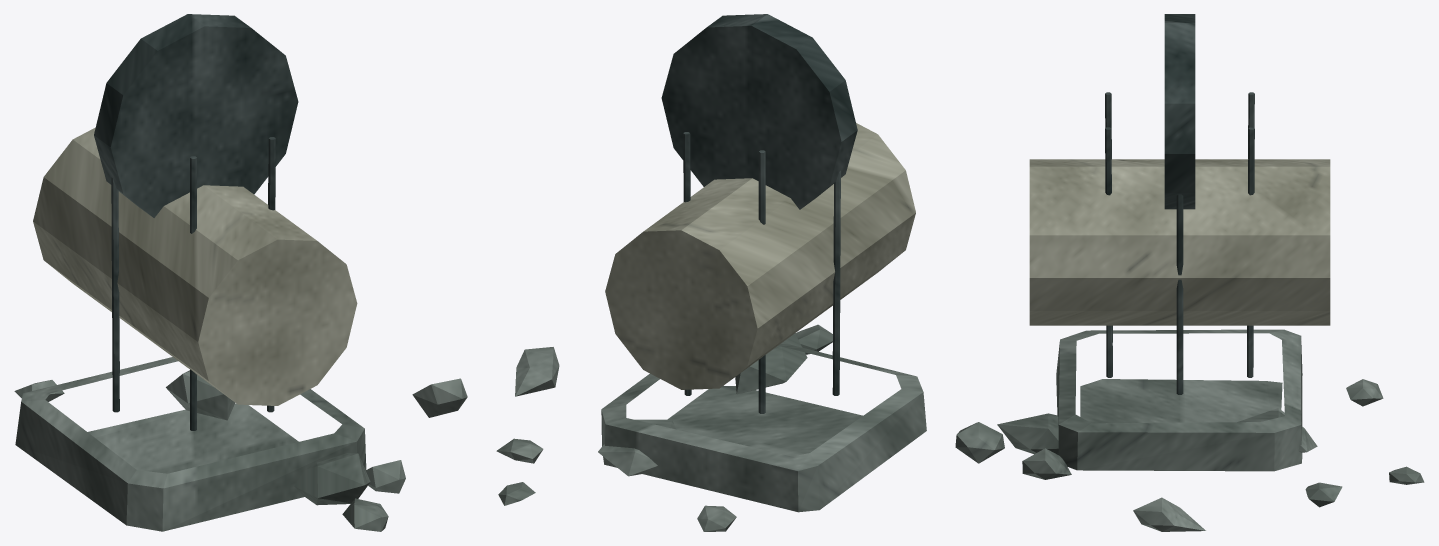
The model's file is 0257_broken_column_07.glb.
3 renders of one model, left to right at view 1: azimuth 30°, elevation 25°; view 2: azimuth 150°, elevation 25°; view 3: azimuth 270°, elevation 25°, orthographic. The views are drawn at different scales.
Parts seen in each view (by area): view 1: stone_light, stone, stone_dark; view 2: stone_light, stone, stone_dark; view 3: stone_light, stone, stone_dark.
Boxes of the visible parts, box(x1,y1,x2,y2) form: stone_light: box(33, 127, 357, 405); stone: box(14, 357, 467, 531); stone_dark: box(94, 14, 298, 430); stone_light: box(605, 123, 915, 389); stone: box(496, 324, 926, 531); stone_dark: box(661, 14, 857, 413); stone_light: box(1029, 159, 1330, 325); stone: box(955, 329, 1424, 531); stone_dark: box(1105, 14, 1254, 394).
Bounding box in the file's own units: 1.95 × 2.19 × 2.29.
3 materials, 3 textured.
